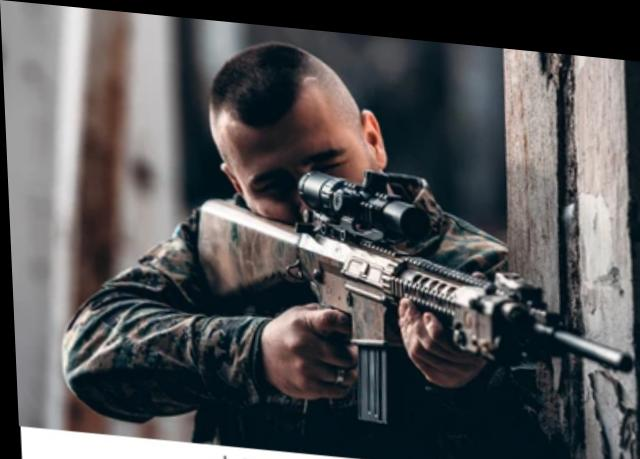other: (51, 25, 561, 458)
